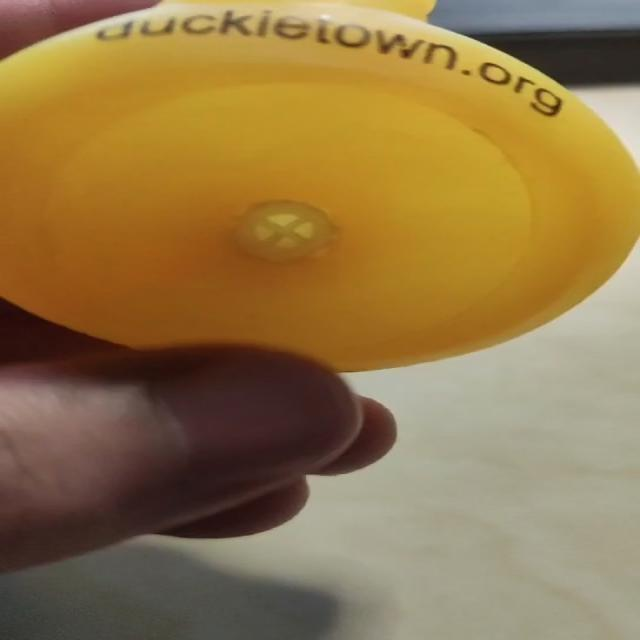rubber-duck: (0, 2, 638, 368)
